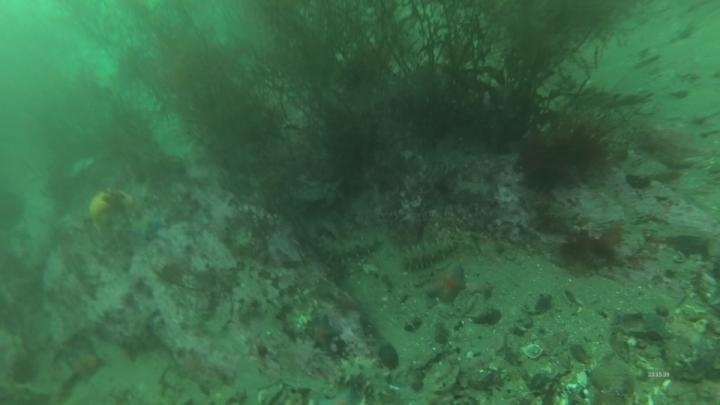holothurian: (335, 352, 402, 402), (311, 229, 385, 263), (399, 237, 462, 273)
starfish: (423, 262, 470, 305), (63, 341, 109, 384), (127, 206, 169, 243), (303, 312, 341, 352)
